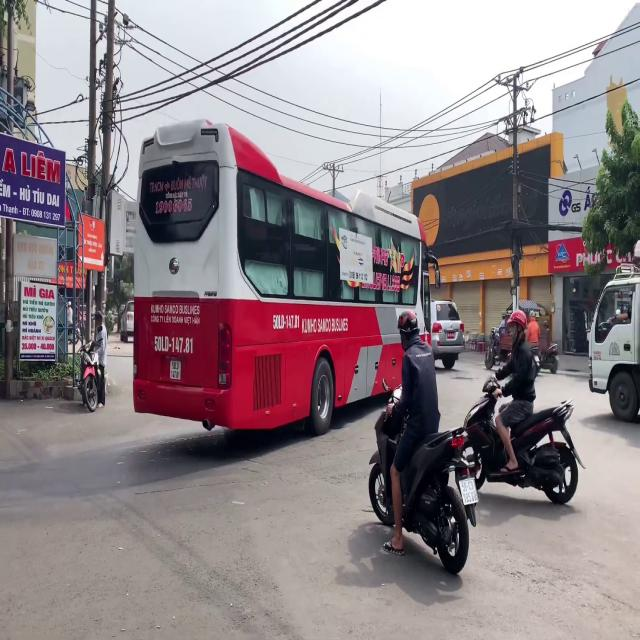bien_trang: (459, 477, 480, 505)
bien_vang: (170, 359, 182, 381)
